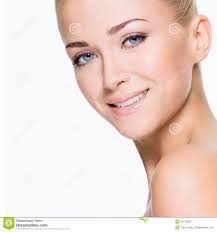s.white: (121, 51, 191, 100)
